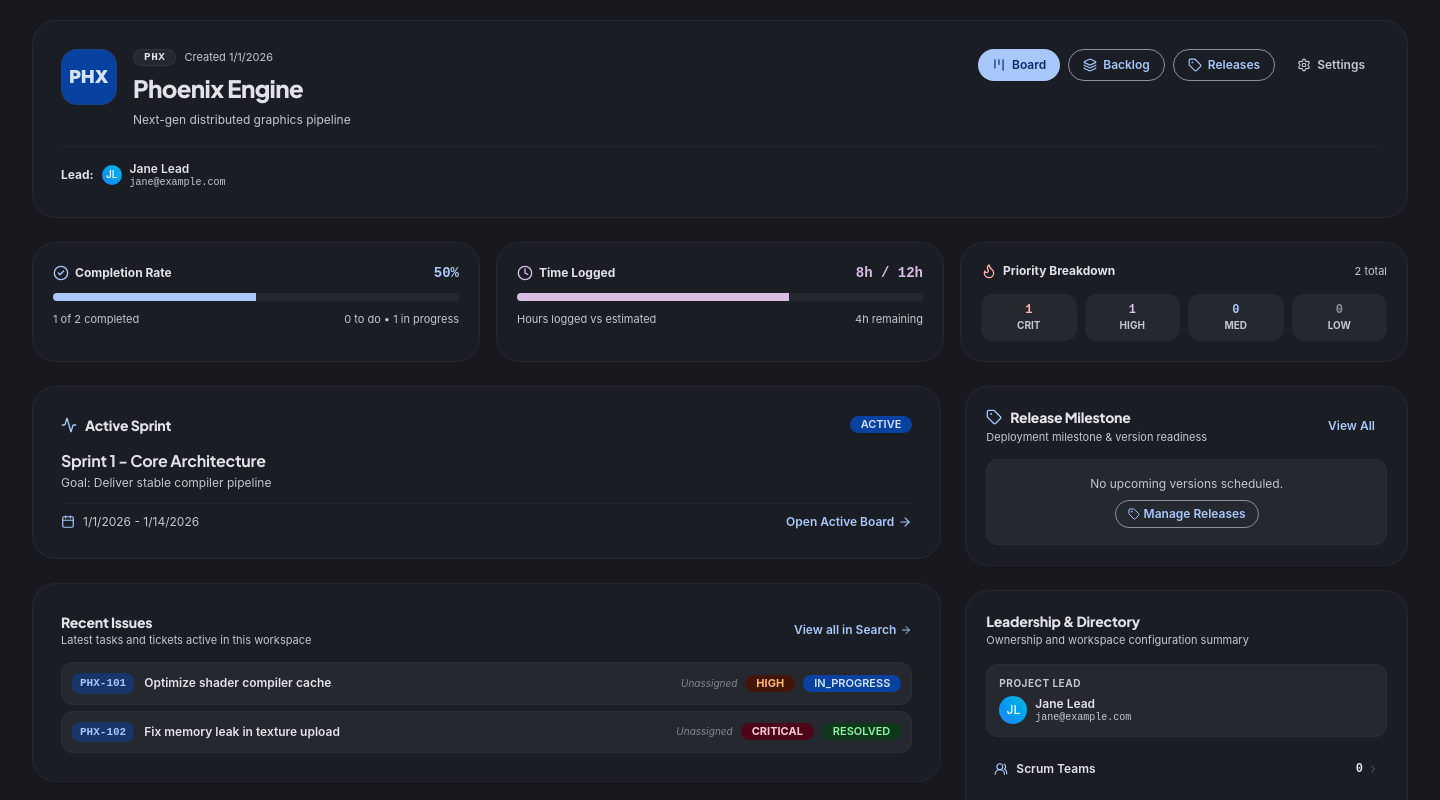
Test case: ProjectOverviewPage Component › renders recent issues and opens modal on click
Expected: the text "Fix memory leak in texture upload" is shown, [144, 724, 340, 740]
Click the text "Optimize shader compiler cache".
click(238, 683)  # box [144, 675, 331, 691]
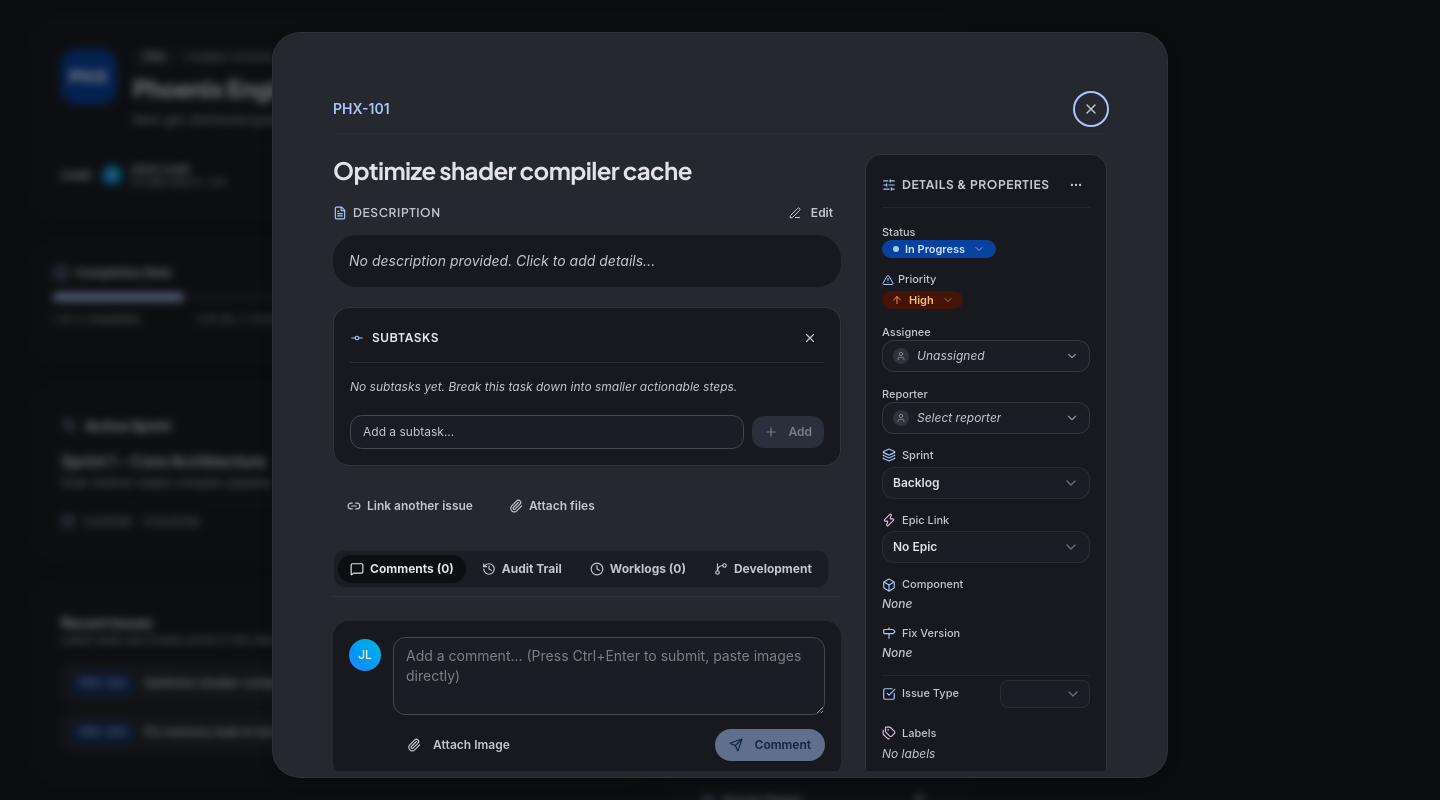
Expected: the dialog is shown, [272, 32, 1168, 778]
